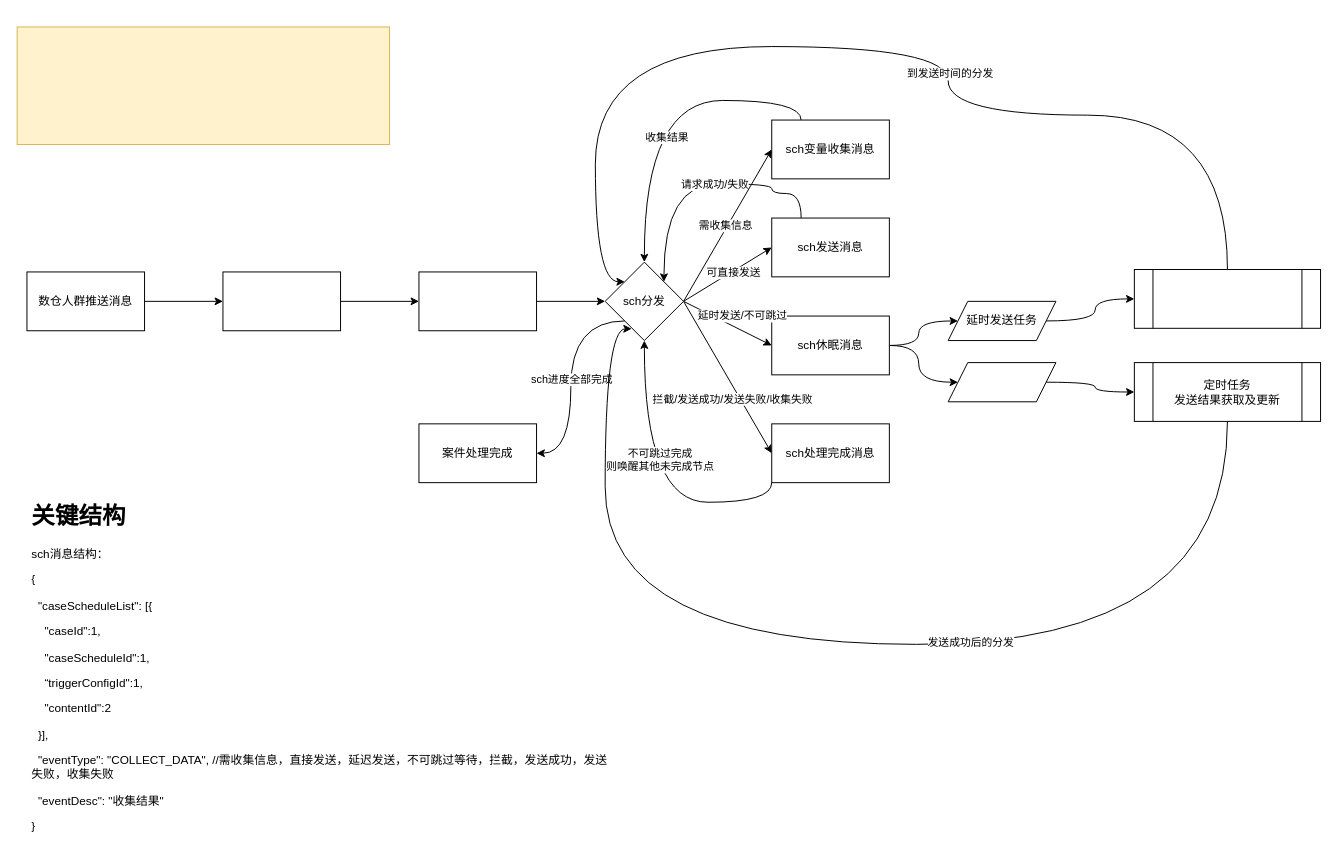
Some shapes in this 1338 by 867 pixel diagram are drawn without their labels. Each missing label, with the centre of its shape:
不可跳过任务: [1001,382]
定时任务 按时间获取到时间的待发送任务: [1227,298]
消息模型需要承载的功能 1. 案件相关：立案、关案 2. sch相关：变量收集、sch发送、sch延时处理（隔夜推送）、sch不可跳过: [203,85]
申请立案消息: [281,301]
立案完成消息: [477,301]
